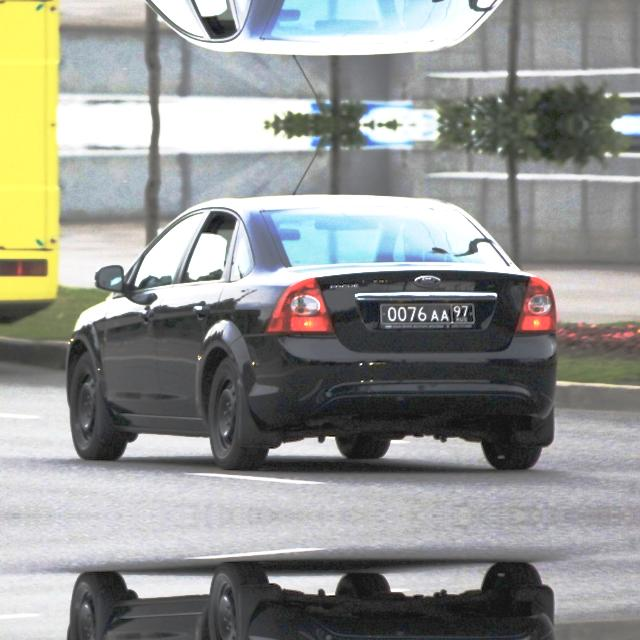military: (374, 298, 484, 332)
